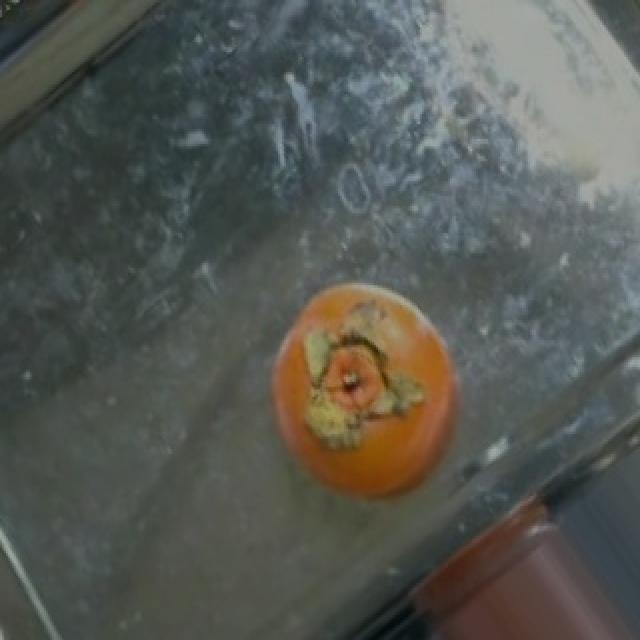Fruit: (244, 261, 490, 524), (392, 476, 636, 640)
